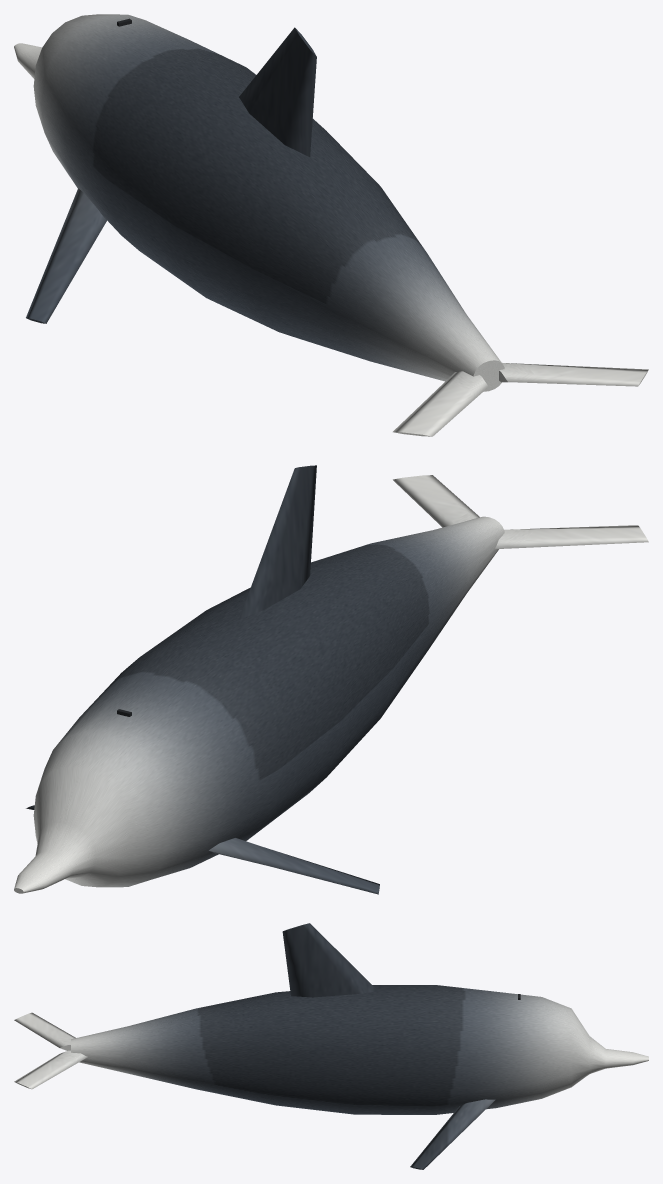
Rendered from dolphin.glb.
3 renders of one model, top to bottom at view 1: azimuth 30°, elevation 25°; view 2: azimuth 150°, elevation 25°; view 3: azimuth 270°, elevation 25°, orthographic. The views are drawn at different scales.
Parts seen in each view (by area): view 1: dolphin; view 2: dolphin; view 3: dolphin.
Part boxes in pixels (<box>): dolphin: <box>14,14,648,436</box>; dolphin: <box>14,465,648,894</box>; dolphin: <box>14,923,648,1169</box>.
Bounding box in the file's own units: 1.1 × 0.9426 × 2.79.
3 materials, 1 textured.
